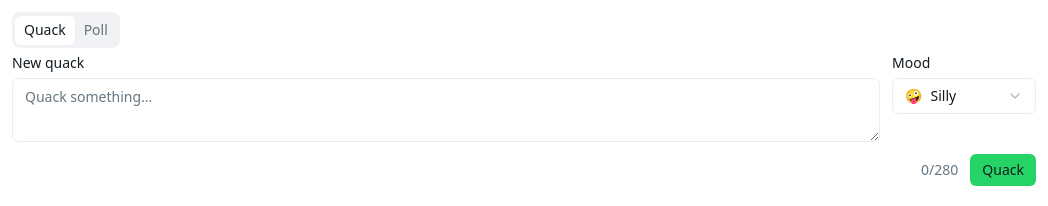
Scenario: QuackForm › starts with the author's default mood and returns to it after posting
Click the dropdown named "Mood" at (964,96), box [892, 78, 1036, 114]
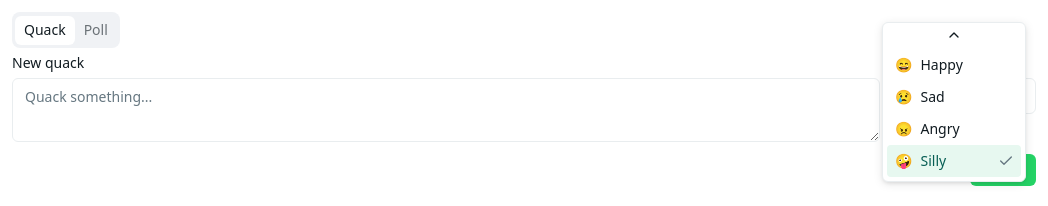
Click the option "😢 Sad" at (920,96), box [895, 87, 945, 106]
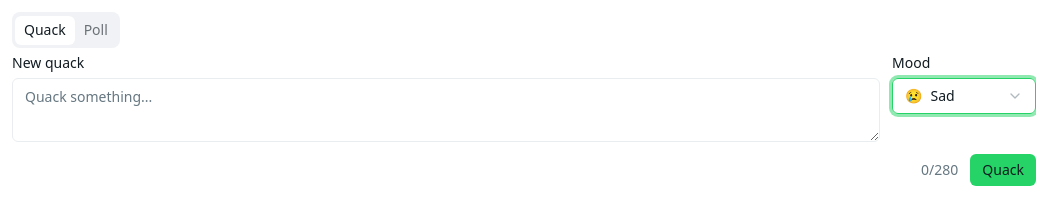
Type "rain again" into the text box labelled "New quack" at (446,110), box [12, 78, 880, 142]
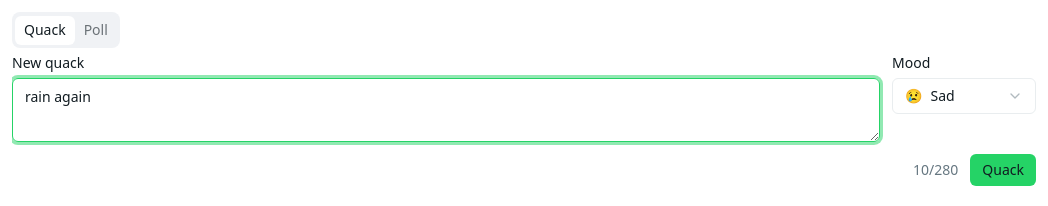
Click the button "Quack" at (1003,170), box [970, 154, 1036, 186]
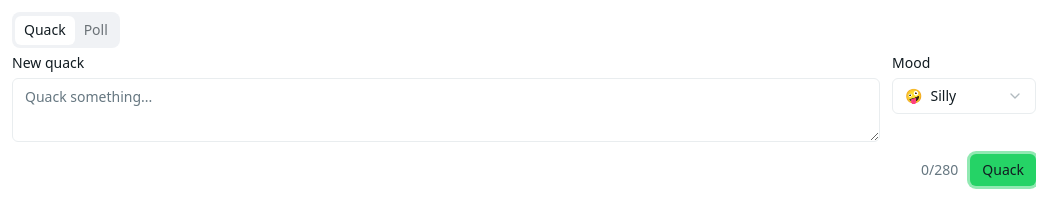
Expected: the dropdown named "Mood" shows "Silly", [892, 78, 1036, 114]
